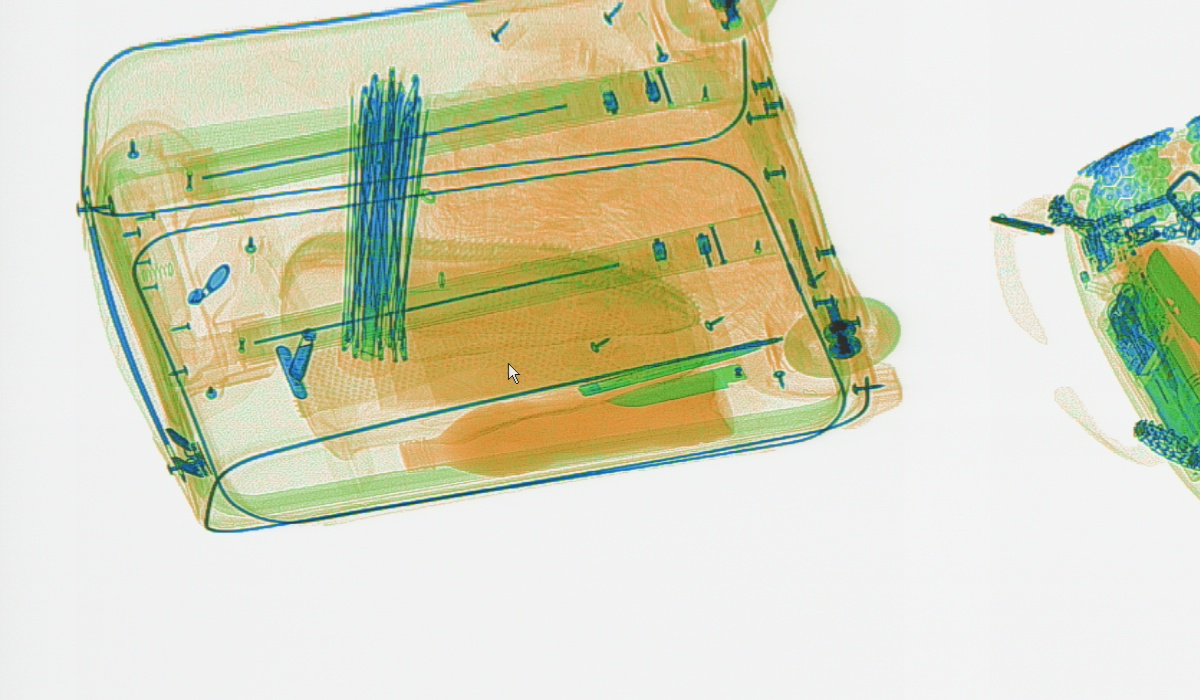knife: (596, 330, 815, 409)
